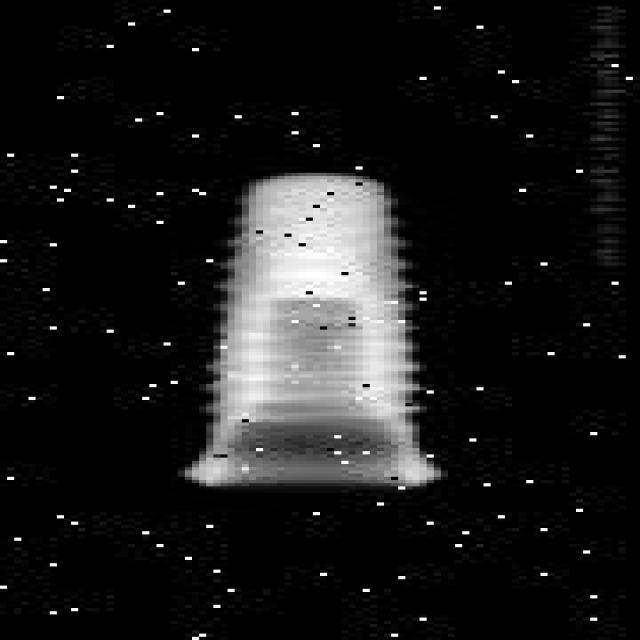Titan Implant Implant: (178, 170, 448, 490)
